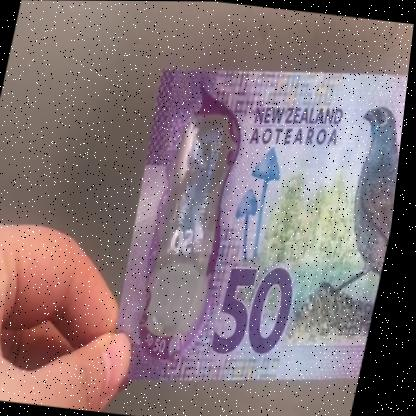50B: (155, 121, 236, 321)
